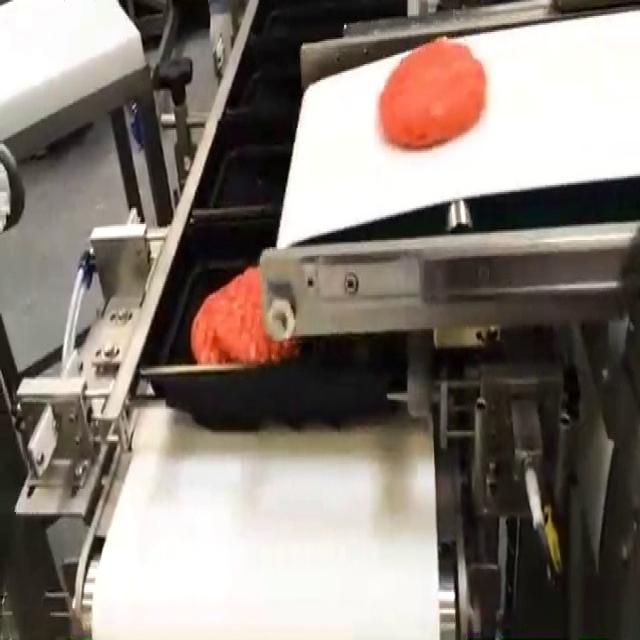hamburguer: (379, 37, 486, 148)
